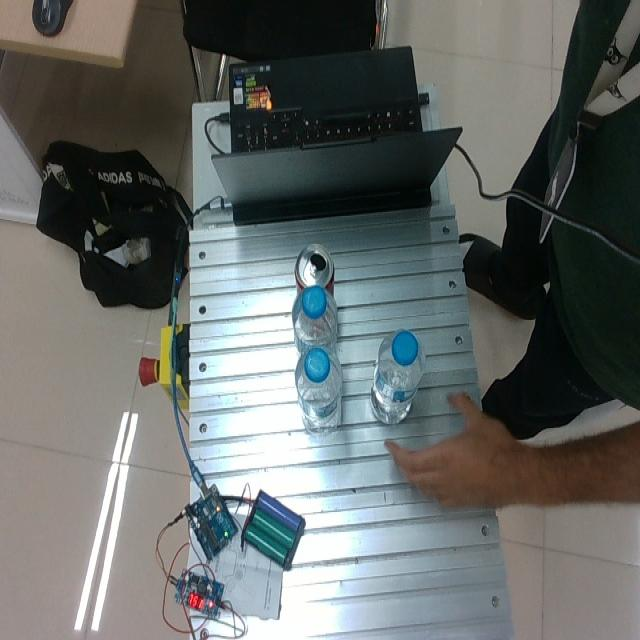coca: (293, 243, 335, 297)
lavie: (370, 329, 425, 423), (295, 344, 343, 433), (291, 284, 338, 356)
